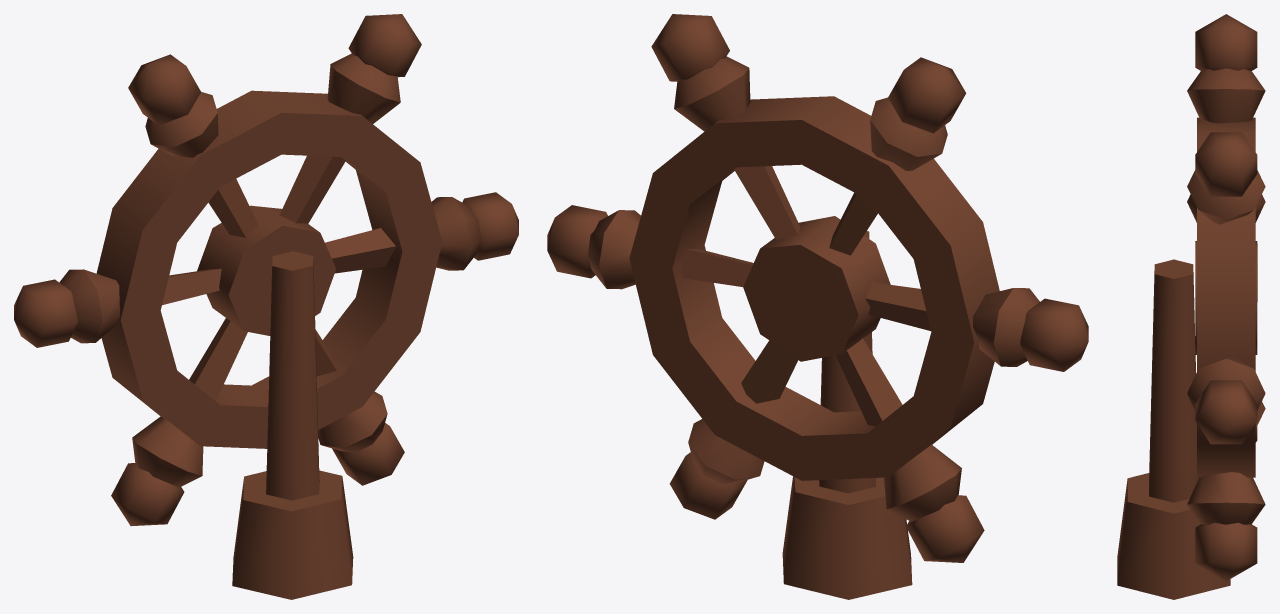
File: Helm.fbx
The picture shows the model from 3 angles, left to right: view 1: azimuth 30°, elevation 25°; view 2: azimuth 150°, elevation 25°; view 3: azimuth 270°, elevation 25°; orthographic projection. The views are drawn at different scales.
Parts seen in each view (by area): view 1: Helm; view 2: Helm; view 3: Helm.
Part boxes in pixels (box(x1,y1,x2,y2)): Helm: box(14, 14, 518, 599); Helm: box(547, 14, 1088, 599); Helm: box(1117, 14, 1265, 599).
Size of the model in its own units: 139 by 136 by 36.3.
